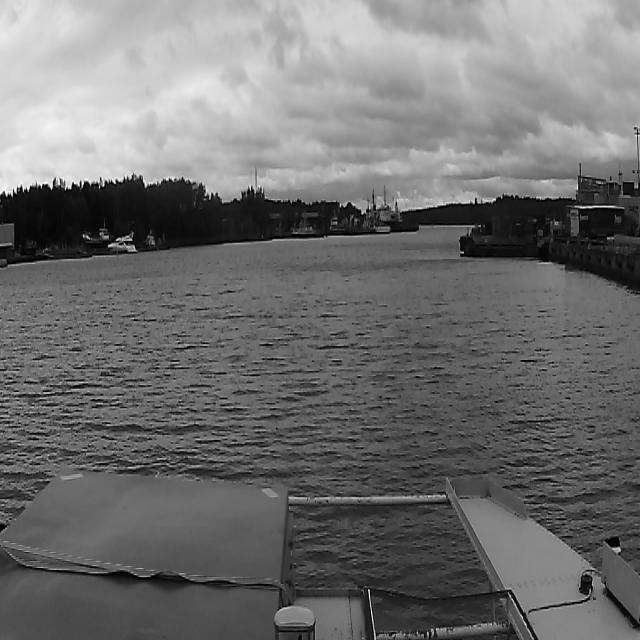ship: (365, 186, 417, 233), (83, 228, 112, 252), (142, 228, 172, 250), (108, 232, 138, 253)
